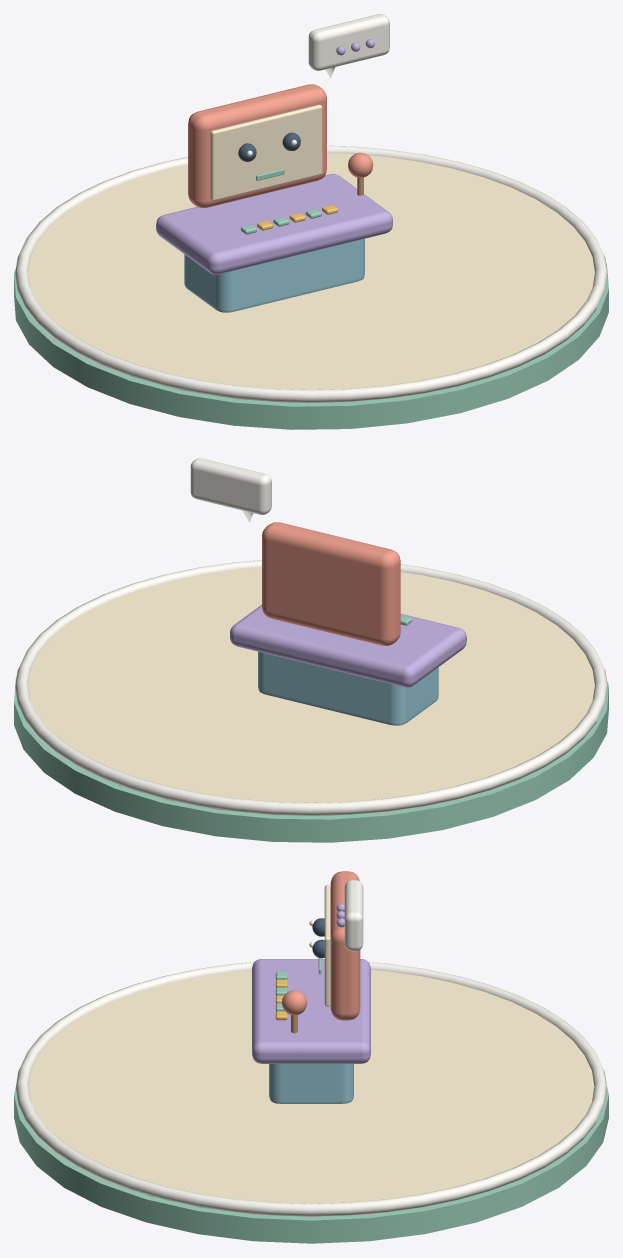
Rendered from terminal.glb.
3 views of the same model, one above another, from view 1: azimuth 30°, elevation 25°; view 2: azimuth 150°, elevation 25°; view 3: azimuth 270°, elevation 25° (orthographic).
Parts seen in each view (by area): view 1: Island, CommandDesk, SpeechBubble; view 2: Island, CommandDesk, SpeechBubble; view 3: Island, CommandDesk, SpeechBubble.
Boxes of the visible parts, x1,y1,x2,y2 form: Island: [14, 145, 608, 429]; CommandDesk: [156, 84, 392, 312]; SpeechBubble: [308, 14, 389, 78]; Island: [14, 560, 608, 842]; CommandDesk: [230, 522, 466, 725]; SpeechBubble: [190, 458, 271, 522]; Island: [14, 962, 608, 1243]; CommandDesk: [252, 871, 370, 1103]; SpeechBubble: [336, 880, 363, 951].
Size of the model in its own units: 7 by 3.25 by 7.
